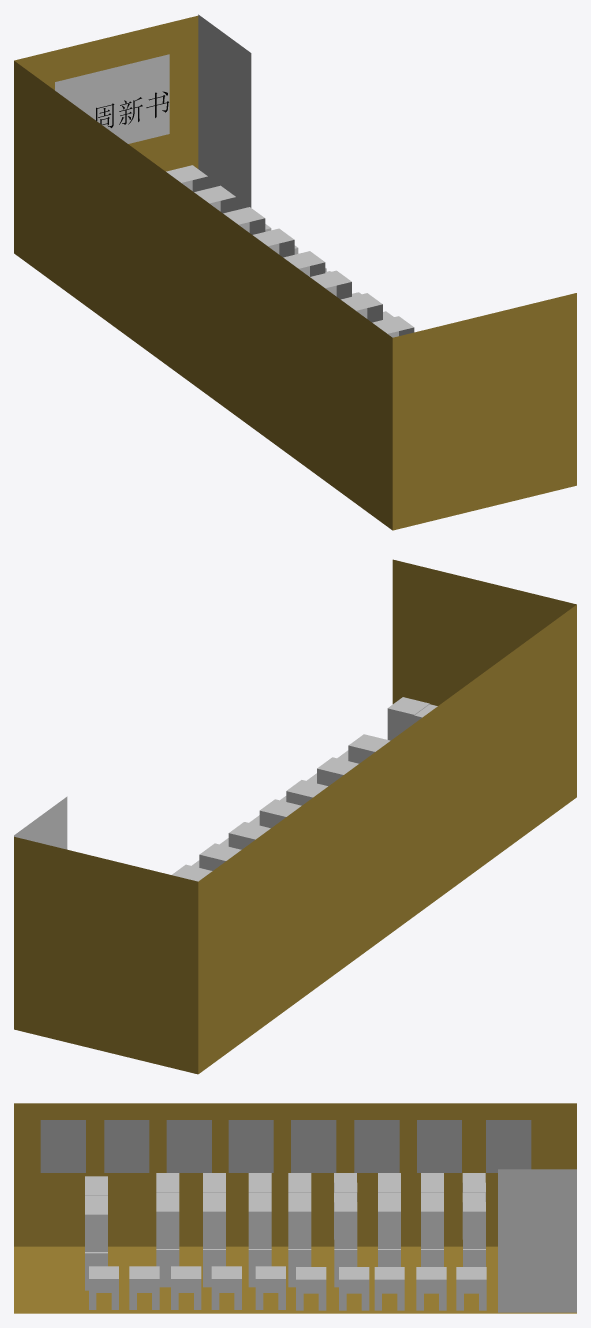
File: library.obj
3 renders of one model, top to bottom at view 1: azimuth 30°, elevation 25°; view 2: azimuth 150°, elevation 25°; view 3: azimuth 270°, elevation 25°, orthographic. The views are drawn at different scales.
Parts seen in each view (by area): view 1: 房子_Cube, 平面.009_平面.010, 平面, 立方体.051_立方体.063, 立方体.027_立方体.039, 立方体.043_立方体.055, 立方体.019_立方体.031, 立方体.011_立方体.023, 立方体.004_立方体.014, 立方体.035_立方体.047; view 2: 房子_Cube, 平面.009_平面.010, 立方体.067_立方体.079, 立方体.059_立方体.071, 立方体.035_立方体.047, 立方体.051_立方体.063, 立方体.027_立方体.039, 立方体.019_立方体.031, 立方体.043_立方体.055; view 3: 房子_Cube, 平面.009_平面.010, 平面.002_平面.003, 平面.004_平面.005, 平面.003_平面.004, 平面.006_平面.007, 平面.005_平面.006, 平面.008_平面.009, 平面.001_平面.002, 平面.007_平面.008, 立方体.027_立方体.039, 立方体.035_立方体.047 (+26 smaller).
Part boxes in pixels (left/top/right/bottom): 房子_Cube: left=14, top=15, right=576, bottom=530; 平面.009_平面.010: left=198, top=14, right=251, bottom=209; 平面: left=55, top=54, right=169, bottom=143; 立方体.051_立方体.063: left=341, top=293, right=382, bottom=322; 立方体.027_立方体.039: left=253, top=228, right=294, bottom=257; 立方体.043_立方体.055: left=310, top=270, right=351, bottom=299; 立方体.019_立方体.031: left=223, top=207, right=265, bottom=234; 立方体.011_立方体.023: left=194, top=185, right=236, bottom=213; 立方体.004_立方体.014: left=166, top=165, right=207, bottom=191; 立方体.035_立方体.047: left=283, top=251, right=325, bottom=276; 房子_Cube: left=14, top=559, right=576, bottom=1074; 平面.009_平面.010: left=14, top=796, right=67, bottom=849; 立方体.067_立方体.079: left=387, top=697, right=429, bottom=740; 立方体.059_立方体.071: left=348, top=734, right=390, bottom=763; 立方体.035_立方体.047: left=259, top=799, right=301, bottom=828; 立方体.051_立方体.063: left=317, top=757, right=358, bottom=786; 立方体.027_立方体.039: left=228, top=822, right=270, bottom=849; 立方体.019_立方体.031: left=199, top=843, right=241, bottom=870; 立方体.043_立方体.055: left=286, top=780, right=327, bottom=805; 房子_Cube: left=14, top=1103, right=576, bottom=1313; 平面.009_平面.010: left=498, top=1169, right=576, bottom=1312; 平面.002_平面.003: left=354, top=1120, right=399, bottom=1172; 平面.004_平面.005: left=291, top=1120, right=336, bottom=1172; 平面.003_平面.004: left=228, top=1120, right=273, bottom=1172; 平面.006_平面.007: left=166, top=1120, right=211, bottom=1172; 平面.005_平面.006: left=104, top=1120, right=149, bottom=1172; 平面.008_平面.009: left=40, top=1120, right=85, bottom=1172; 平面.001_平面.002: left=417, top=1120, right=461, bottom=1172; 平面.007_平面.008: left=486, top=1120, right=531, bottom=1172; 立方体.027_立方体.039: left=334, top=1202, right=357, bottom=1248; 立方体.035_立方体.047: left=288, top=1202, right=311, bottom=1248.
Bounding box in the file's own units: 2 × 2.01 × 7.12.
